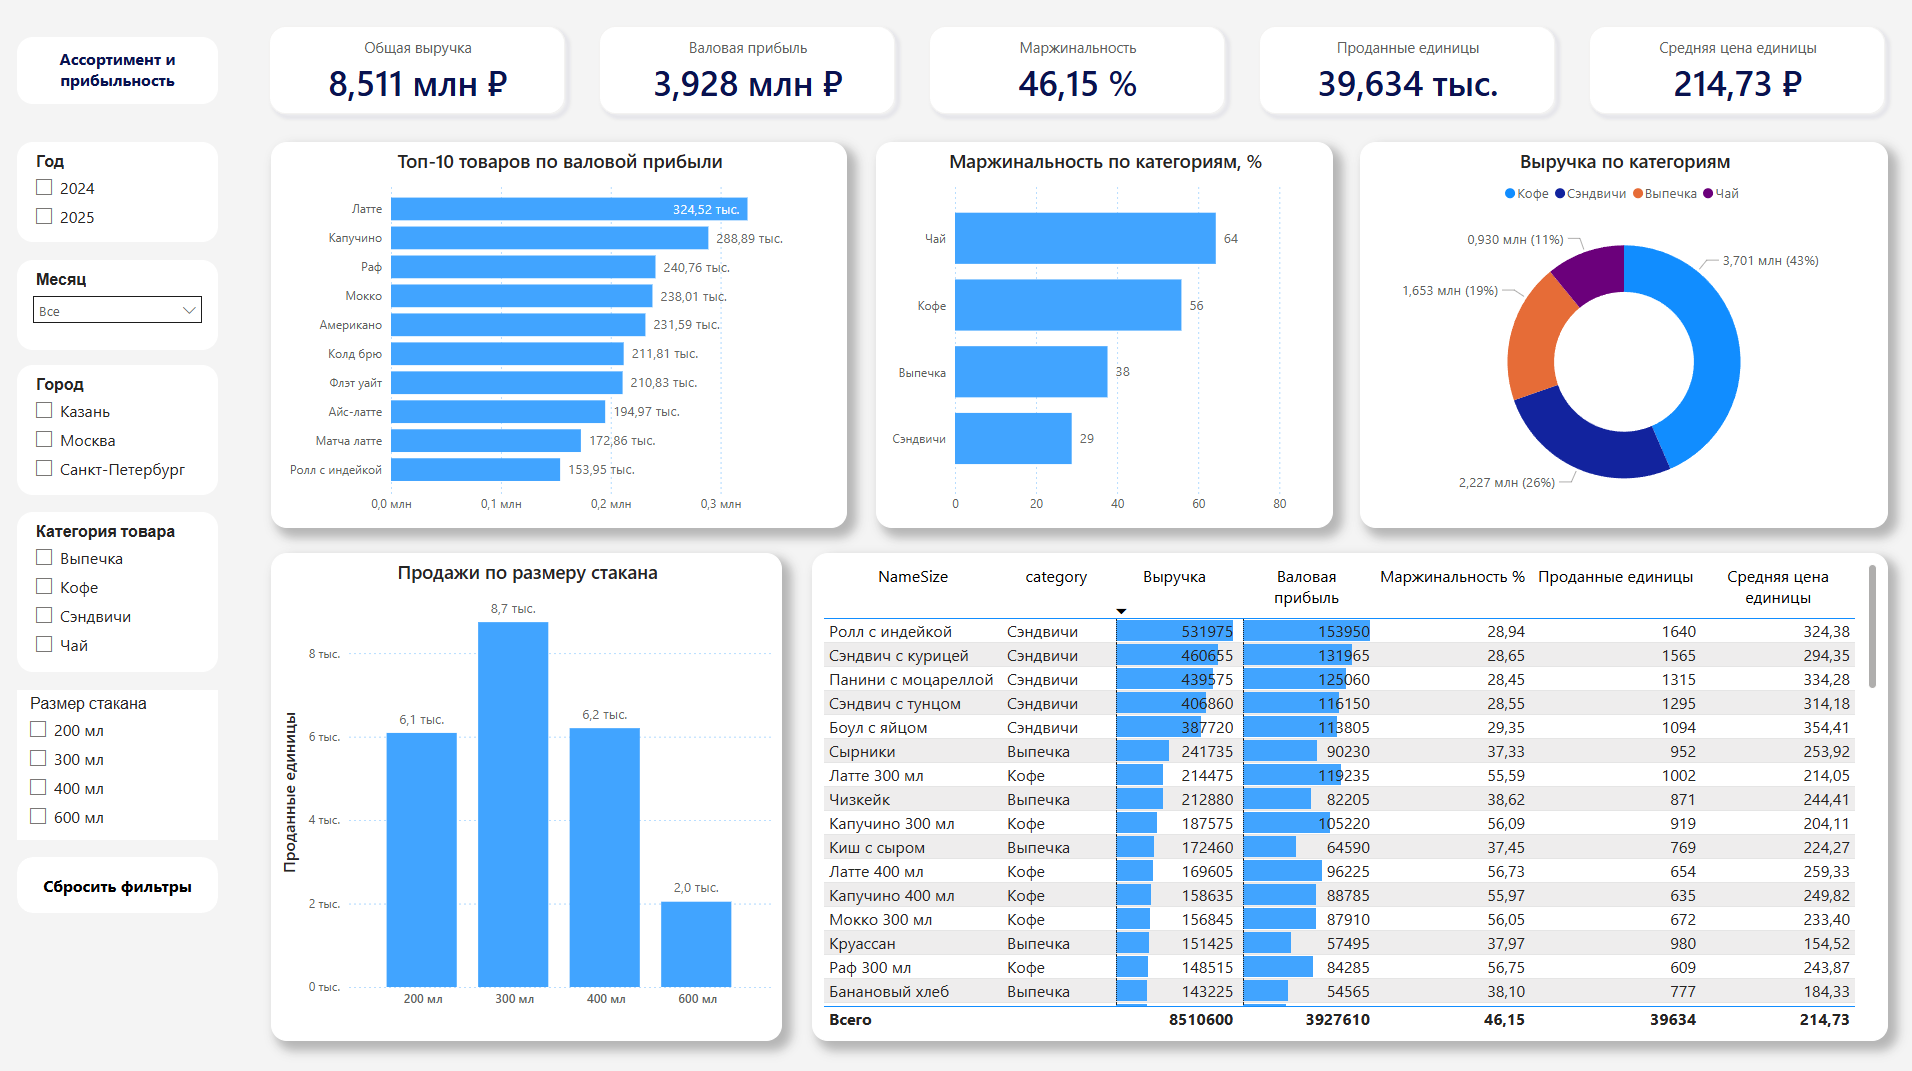

This screenshot's page, from the dashboard's own definition file:
{"tool":"powerbi","page":{"name":"Ассортимент и прибыльность","canvas":[1920,1080],"ordinal":2},"visuals":[{"type":"textbox","box":[20,40,201.1,66.7],"z":0},{"type":"cardVisual","fields":{"Data":["coffee_sales.Выручка KPI","coffee_sales.Валовая прибыль KPI","coffee_sales.Маржинальность KPI","coffee_sales.Проданные единицы","coffee_sales.Средняя цена единицы KPI"]},"box":[243.3,0,1676.7,145.6],"z":1000},{"type":"clusteredBarChart","title":"Топ-10 товаров по валовой прибыли","fields":{"Category":["coffee_products.product_name.1"],"Y":["coffee_sales.Валовая прибыль"]},"box":[273.8,145,576.2,386.2],"z":2000},{"type":"clusteredBarChart","title":"Маржинальность по категориям, %","fields":{"Category":["coffee_products.category"],"Y":["coffee_sales.Маржинальность %"]},"box":[878.8,145,457.5,386.2],"z":3000},{"type":"donutChart","title":"Выручка по категориям","fields":{"Category":["coffee_products.category"],"Y":["coffee_sales.Выручка"]},"box":[1362.5,145,528.8,386.2],"z":4000},{"type":"columnChart","title":"Продажи по размеру стакана","fields":{"Y":["coffee_sales.Проданные единицы"],"Category":["coffee_products.Размер стакана"]},"box":[273.8,556.2,511.2,487.5],"z":5000},{"type":"tableEx","fields":{"Values":["coffee_products.NameSize","coffee_products.category","coffee_sales.Выручка","coffee_sales.Валовая прибыль","coffee_sales.Маржинальность %","coffee_sales.Проданные единицы","coffee_sales.Средняя цена единицы"]},"box":[815,556.2,1076.2,487.5],"z":6000},{"type":"actionButton","box":[20,860,201.2,56.2],"z":7000},{"type":"slicer","fields":{"Values":["coffee_sales.Год"]},"box":[20,145,201.2,100],"z":8000},{"type":"slicer","fields":{"Values":["coffee_sales.Месяц"]},"box":[20,262.5,201.2,90],"z":9000},{"type":"slicer","fields":{"Values":["coffee_shops.city"]},"box":[20,367.5,201.2,130],"z":10000},{"type":"slicer","fields":{"Values":["coffee_products.category"]},"box":[20,515,201.2,160],"z":11000},{"type":"slicer","fields":{"Values":["coffee_products.Размер стакана"]},"box":[20,692.5,201.2,150],"z":12000}]}

Visuals, with their boxes in screenshot pixels (x1, y1, x2, y2), scaled from the page's 1920x1080 canvas onto the 1912x1071 screenshot:
textbox: 20:40:220:106
cardVisual - coffee_sales.Выручка KPI x coffee_sales.Валовая прибыль KPI: 242:0:1911:144
"Топ-10 товаров по валовой прибыли" clusteredBarChart: 273:144:846:527
"Маржинальность по категориям, %" clusteredBarChart: 875:144:1331:527
"Выручка по категориям" donutChart: 1357:144:1883:527
"Продажи по размеру стакана" columnChart: 273:552:782:1035
tableEx - coffee_products.NameSize x coffee_products.category: 812:552:1883:1035
actionButton: 20:853:220:909
slicer - coffee_sales.Год: 20:144:220:243
slicer - coffee_sales.Месяц: 20:260:220:350
slicer - coffee_shops.city: 20:364:220:493
slicer - coffee_products.category: 20:511:220:669
slicer - coffee_products.Размер стакана: 20:687:220:835
